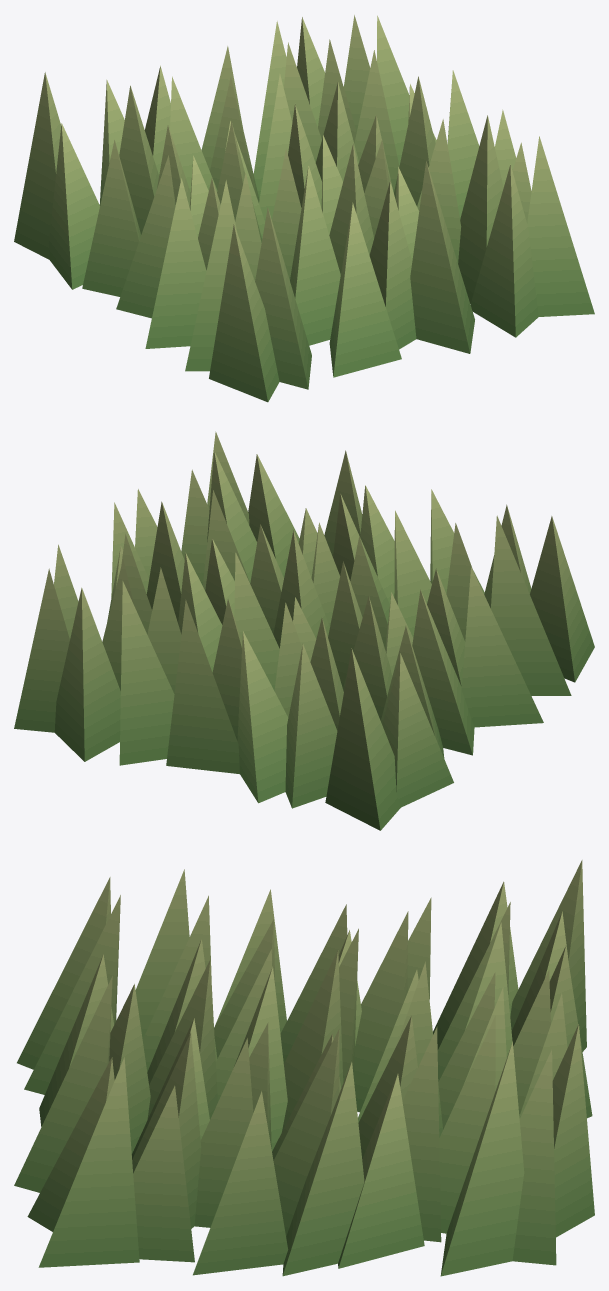
File: cn_wheat_patch_0.glb
3 views of the same model, one above another, from view 1: azimuth 30°, elevation 25°; view 2: azimuth 150°, elevation 25°; view 3: azimuth 270°, elevation 25° (orthographic). The views are drawn at different scales.
Visible parts, largest first — view 1: cn_wheat_patch_1; view 2: cn_wheat_patch_1; view 3: cn_wheat_patch_1.
Part boxes in pixels (x1=…): cn_wheat_patch_1: x1=14, y1=15, x2=594, y2=402; cn_wheat_patch_1: x1=14, y1=431, x2=594, y2=830; cn_wheat_patch_1: x1=14, y1=860, x2=594, y2=1276.
Bounding box in the file's own units: 2.17 × 0.8988 × 2.26.
1 material, 1 textured.
